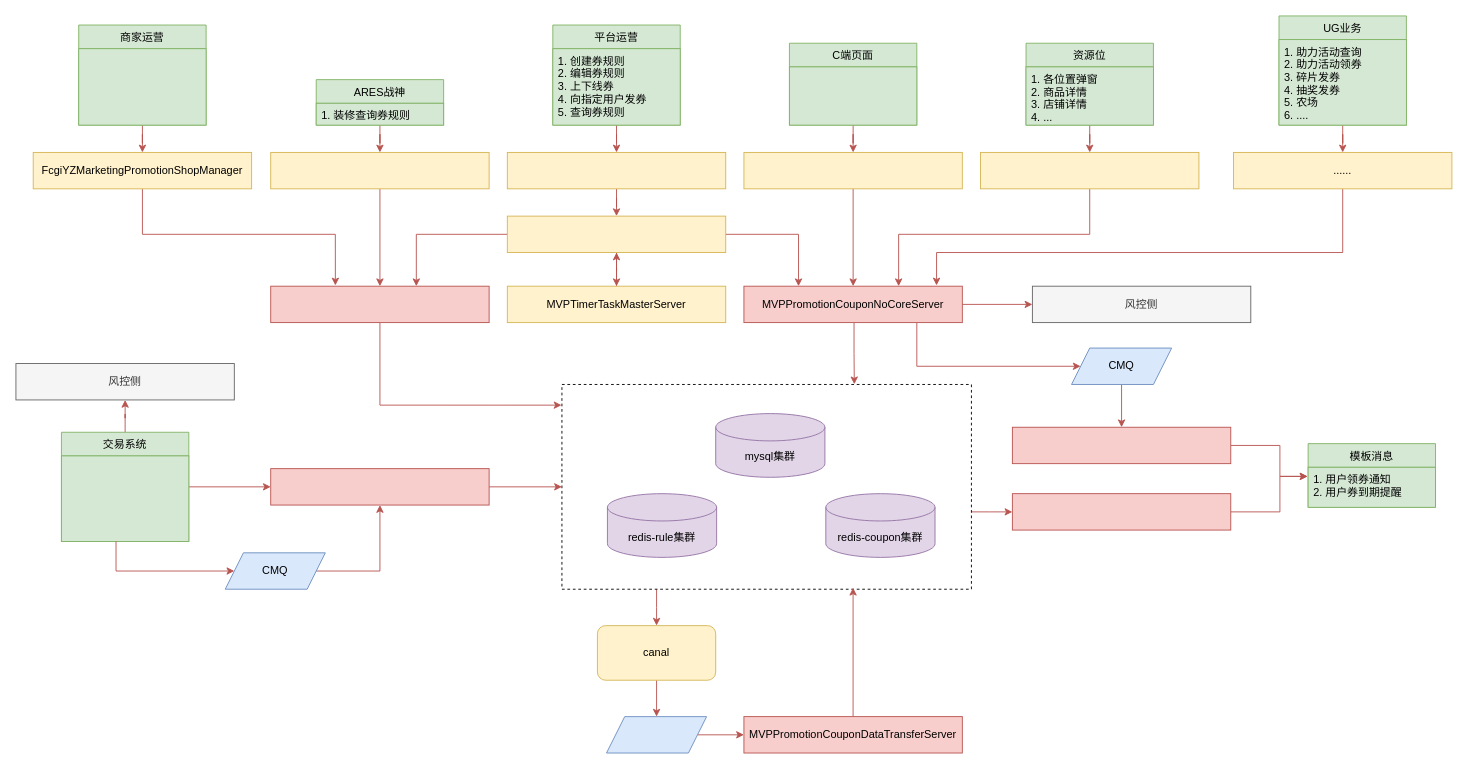
Image size: 1468x769. Some labels were removed from this diagram. Here are the shapes that lost their labels. From the top down, the centre of each, then its label:
the point at 142,86: 1. 创建券规则 2. 编辑券规则 3. 上下线券 4. 获取券码 5. 查询券规则
the point at 853,95: 1. 我的优惠查询 2. 领取券 3. 活动页面查询 4. 商家私密券页面查询
the point at 379,170: FcgiYZAresPromotionManageServer
the point at 616,170: FcgiResourceOpsBossServer
the point at 852,170: FcgiYZMarketingPromotionServer
the point at 1089,170: MVPResourceOpsServer
the point at 616,234: MVPResourceOpsBossServer
the point at 379,304: MVPPromotionCouponManageServer
the point at 1121,445: MVPSendMsgServer
the point at 125,498: 1. 批价查询券 2. 下单核销券 3. 订单确认核销券 4. 订单失败回滚券 5. 订单取消回滚券 6. 退款回滚券
the point at 379,486: MVPPromotionCouponCoreServer
the point at 1121,511: MVPPromotionCouponTimerServer
the point at 656,734: kafka集群
